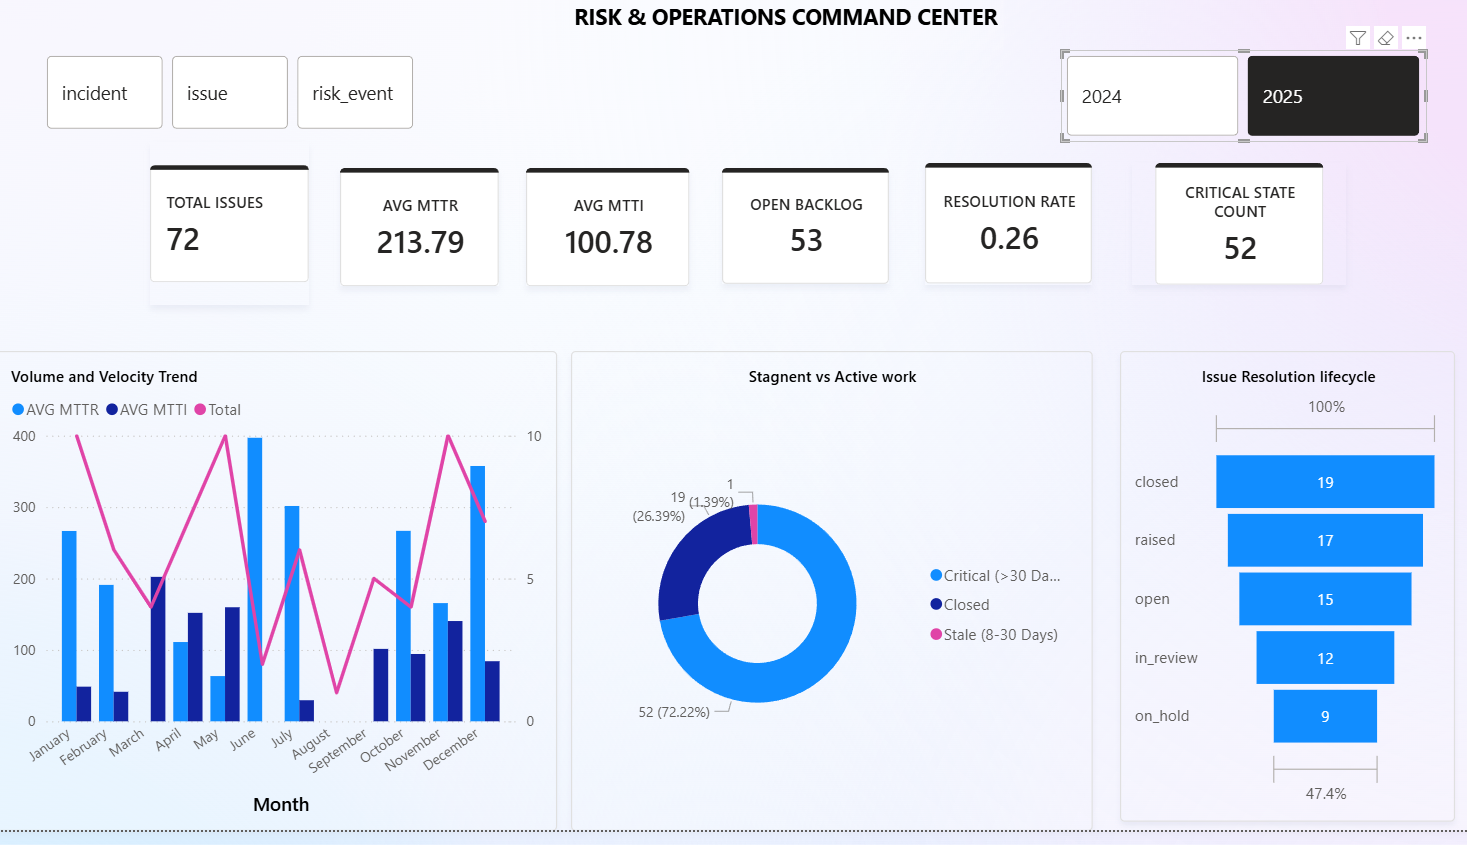

This screenshot's page, from the dashboard's own definition file:
{"tool":"powerbi","page":{"name":"OVERVIEW","canvas":[1280,720],"ordinal":0},"visuals":[{"type":"textbox","box":[493.4,0,376.1,46.6],"z":0},{"type":"cardVisual","title":"t","fields":{"Data":["Calendar.TOTAL ISSUES"]},"box":[132.5,126.3,137,141.5],"z":1000},{"type":"cardVisual","fields":{"Data":["Calendar.OPEN BACKLOG"]},"box":[626,148.7,144.2,100.3],"z":2000},{"type":"cardVisual","fields":{"Data":["Calendar.RESOLUTION RATE"]},"box":[801.5,144.2,144.2,104.8],"z":3000},{"type":"cardVisual","fields":{"Data":["Calendar.AVG MTTI"]},"box":[456.7,148.7,141.5,102.1],"z":4000},{"type":"cardVisual","fields":{"Data":["Calendar.CRITICAL STATE COUNT"]},"box":[979.7,144.2,185.4,105],"z":6000},{"type":"cardVisual","fields":{"Data":["Calendar.AVG MTTR"]},"box":[296.4,148.7,137,102.1],"z":7000},{"type":"lineClusteredColumnComboChart","title":"Volume and Velocity Trend","fields":{"Category":["fct_Issues.CreatedDate.Variation.Date Hierarchy.Month","fct_Issues.CreatedDate.Variation.Date Hierarchy.Day"],"Y2":["CountNonNull(fct_Issues.NaturalKey)"],"Y":["Calendar.AVG MTTR","Calendar.AVG MTTI"]},"box":[0,306.3,483.6,413.7],"z":8000},{"type":"funnel","title":"Issue Resolution lifecycle","fields":{"Category":["fct_Issues.CurrentStatus"],"Y":["Calendar.TOTAL ISSUES"]},"box":[969.9,306.3,289.3,405.7],"z":9000},{"type":"donutChart","title":"Stagnent vs Active work","fields":{"Category":["fct_Issues.AgeBucket"],"Y":["CountNonNull(fct_Issues.IsOpen)"]},"box":[496.1,306.3,449.6,413.7],"z":10000},{"type":"advancedSlicerVisual","fields":{"Values":["fct_Issues.Type"]},"box":[38.5,46.6,326.9,73.4],"z":12000},{"type":"advancedSlicerVisual","fields":{"Values":["fct_Issues.CreatedDate.Variation.Date Hierarchy.Year"]},"box":[918.8,46.6,315.2,79.7],"z":13000}]}

Visuals, with their boxes in screenshot pixels (x1, y1, x2, y2), scaled from the page's 1280x720 canvas onto the 1467x847 screenshot:
textbox: [left=565, top=0, right=997, bottom=55]
"t" cardVisual: [left=152, top=149, right=309, bottom=315]
cardVisual - Calendar.OPEN BACKLOG: [left=717, top=175, right=883, bottom=293]
cardVisual - Calendar.RESOLUTION RATE: [left=919, top=170, right=1084, bottom=293]
cardVisual - Calendar.AVG MTTI: [left=523, top=175, right=686, bottom=295]
cardVisual - Calendar.CRITICAL STATE COUNT: [left=1123, top=170, right=1335, bottom=293]
cardVisual - Calendar.AVG MTTR: [left=340, top=175, right=497, bottom=295]
"Volume and Velocity Trend" lineClusteredColumnComboChart: [left=0, top=360, right=554, bottom=846]
"Issue Resolution lifecycle" funnel: [left=1112, top=360, right=1443, bottom=838]
"Stagnent vs Active work" donutChart: [left=569, top=360, right=1084, bottom=846]
advancedSlicerVisual - fct_Issues.Type: [left=44, top=55, right=419, bottom=141]
advancedSlicerVisual - fct_Issues.CreatedDate.Variation.Date Hierarchy.Year: [left=1053, top=55, right=1414, bottom=149]
